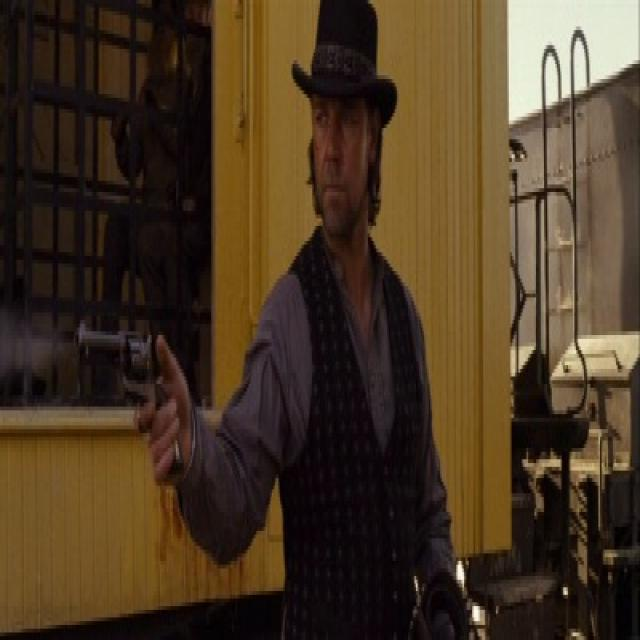weapons: (62, 272, 190, 519)
